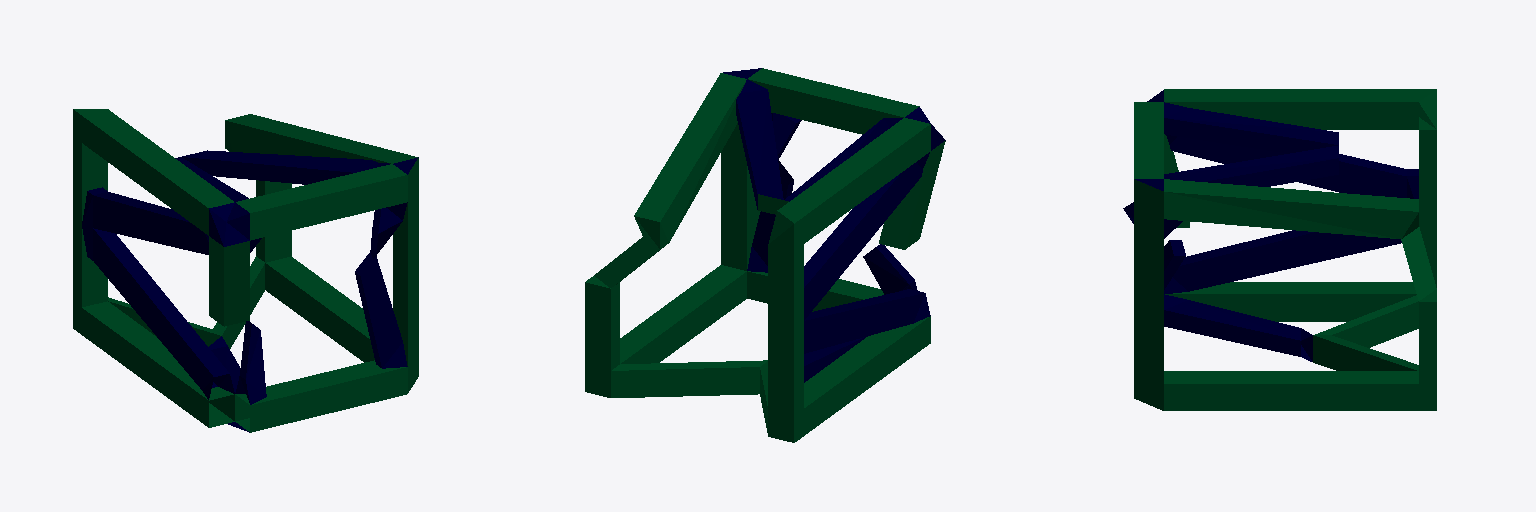
Rendered from Broken.obj.
3 views of the same model, side by side, from view 1: azimuth 30°, elevation 25°; view 2: azimuth 150°, elevation 25°; view 3: azimuth 270°, elevation 25° (orthographic).
Size of the model in its own units: 2 by 2.1 by 2.59.